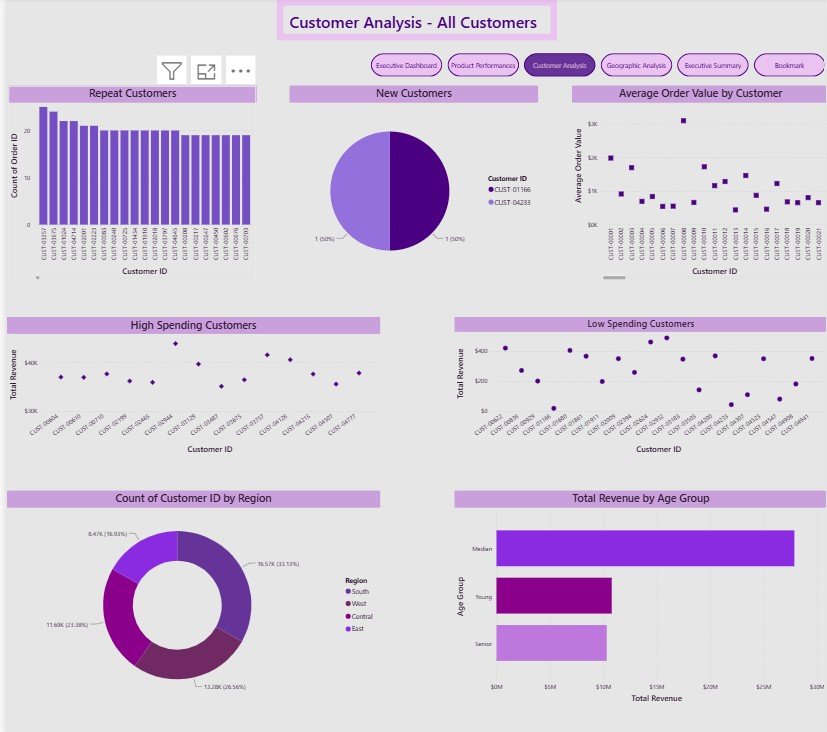

What the dashboard file says about the page in this screenshot:
{"tool":"powerbi","page":{"name":"Customer Analysis","canvas":[1650,1500],"ordinal":2},"visuals":[{"type":"clusteredColumnChart","title":"Repeat Customers","fields":{"Category":["Customer.Customer ID"],"Y":["CountNonNull(Sales.Order ID)"]},"box":[2.5,177.5,500,395],"z":0},{"type":"pieChart","title":"New Customers","fields":{"Series":["Sales.Customer Segment"],"Y":["CountNonNull(Sales.Customer ID)"],"Category":["Customer.Customer ID"]},"box":[567.5,177.5,500,395],"z":1000},{"type":"scatterChart","title":"Average Order Value by Customer","fields":{"Y":["Sales.Average Order Value"],"X":["Customer.Customer ID"]},"box":[1135,177.5,517.5,395],"z":2000},{"type":"scatterChart","title":"High Spending Customers","fields":{"Y":["Sales.Total Revenue"],"X":["Customer.Customer ID"]},"box":[0,644,750,280],"z":3000},{"type":"scatterChart","title":"Low Spending Customers","fields":{"Y":["Sales.Total Revenue"],"X":["Customer.Customer ID"]},"box":[900,644,750,280],"z":4000},{"type":"barChart","fields":{"Category":["Customer.Age Group"],"Y":["Sales.Total Revenue"]},"box":[900,992,750,432],"z":5000},{"type":"donutChart","fields":{"Y":["CountNonNull(Sales.Customer ID)"],"Category":["Customer.Region"]},"box":[0,992,750,432],"z":6000},{"type":"cardVisual","fields":{"Data":["Sales.Dashboard Title Customers"]},"box":[537.9,0,573.1,93],"z":7000},{"type":"pageNavigator","box":[731.4,113.1,917.4,47.8],"z":8000}]}

Visuals, with their boxes on the page's 1650x1500 design canvas (x1, y1, x2, y2). These are canvas units, not pixel positions in the 827x732 screenshot, which may show the page scaled, cropped or inside an application window:
"Repeat Customers" clusteredColumnChart: bbox=[2, 178, 502, 572]
"New Customers" pieChart: bbox=[568, 178, 1068, 572]
"Average Order Value by Customer" scatterChart: bbox=[1135, 178, 1652, 572]
"High Spending Customers" scatterChart: bbox=[0, 644, 750, 924]
"Low Spending Customers" scatterChart: bbox=[900, 644, 1650, 924]
barChart - Customer.Age Group x Sales.Total Revenue: bbox=[900, 992, 1650, 1424]
donutChart - CountNonNull(Sales.Customer ID) x Customer.Region: bbox=[0, 992, 750, 1424]
cardVisual - Sales.Dashboard Title Customers: bbox=[538, 0, 1111, 93]
pageNavigator: bbox=[731, 113, 1649, 161]
